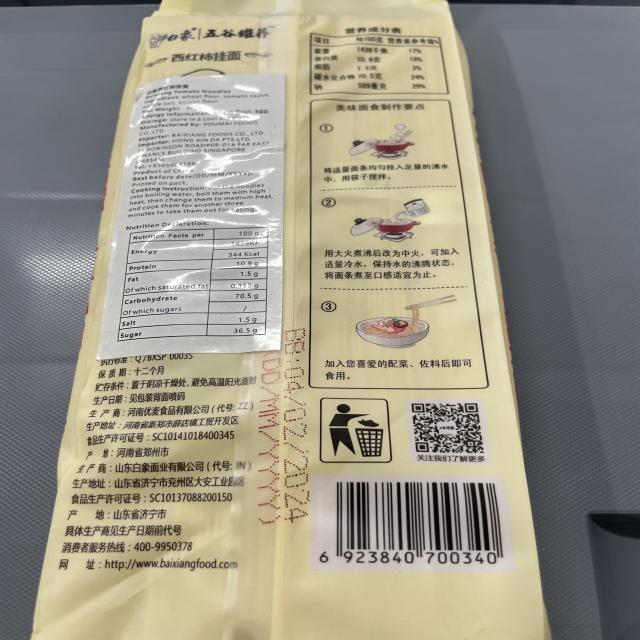object_name: (102, 5, 508, 640)
